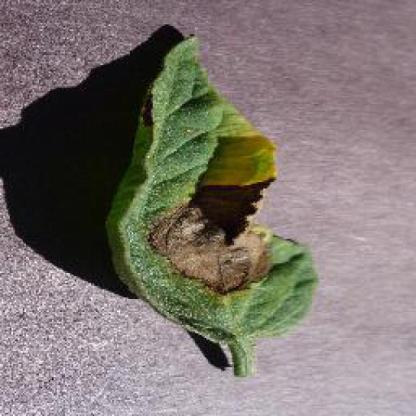Tomato_Blight: (111, 36, 314, 340)
